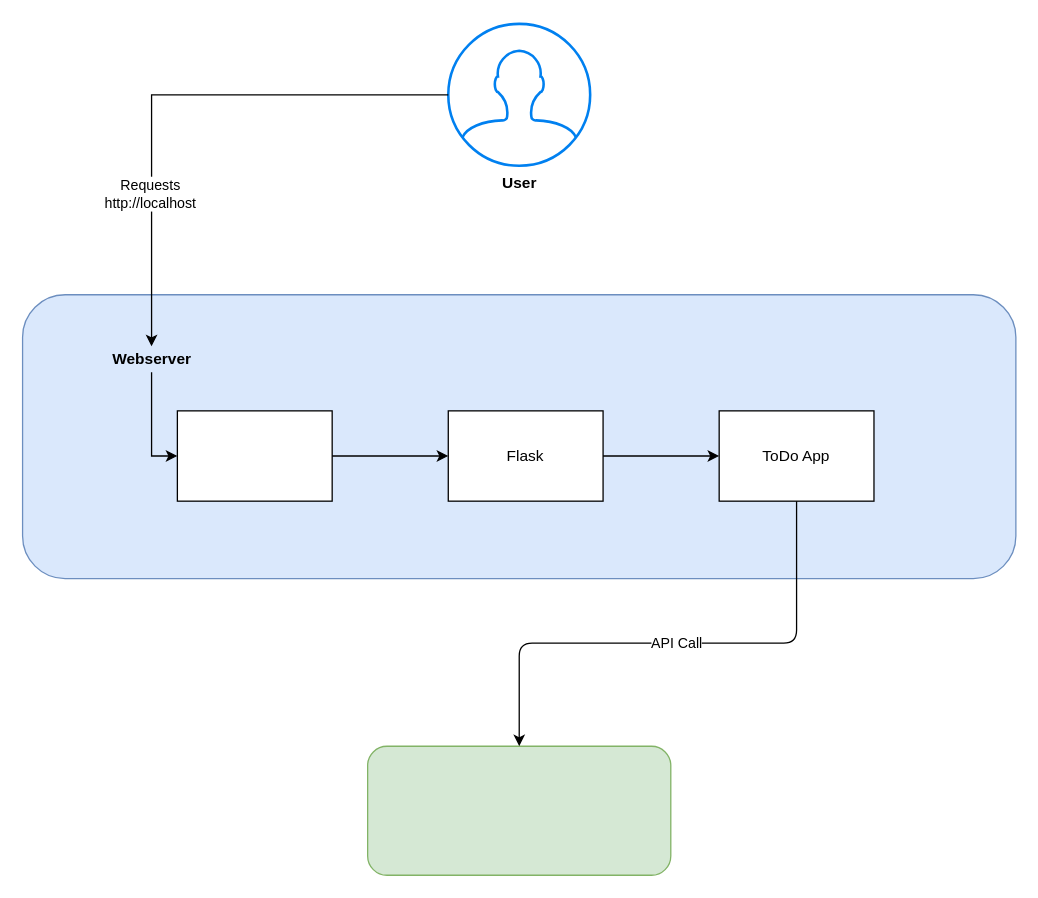
The diagram is 1038 pixels wide and 898 high, and some of its shapes have lost their labels. The centre of each missing label's shape, as x and y in pixels:
"Gunicorn" goes at point 254,455.
"Trello Third party service used to persist user tasks" goes at point 518,810.
